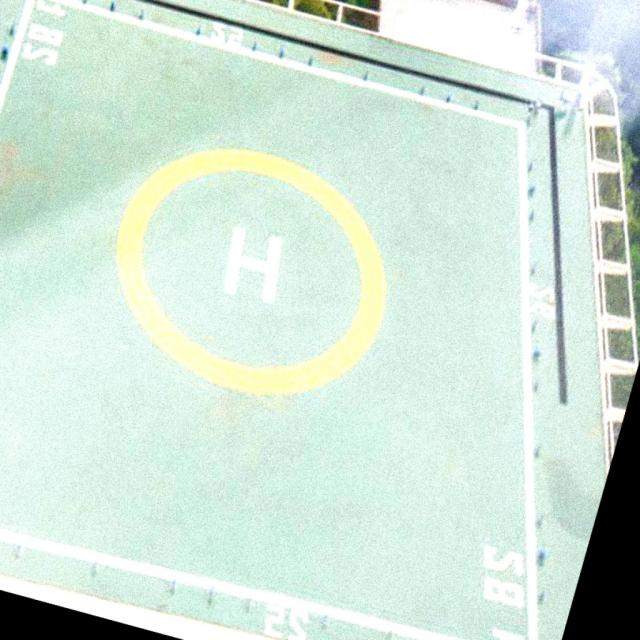helipad: (105, 140, 391, 401)
